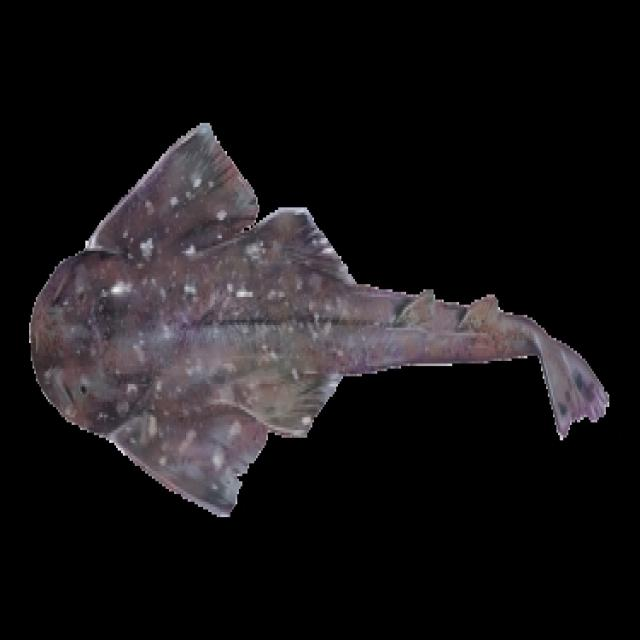gaviota: (29, 123, 608, 515)
